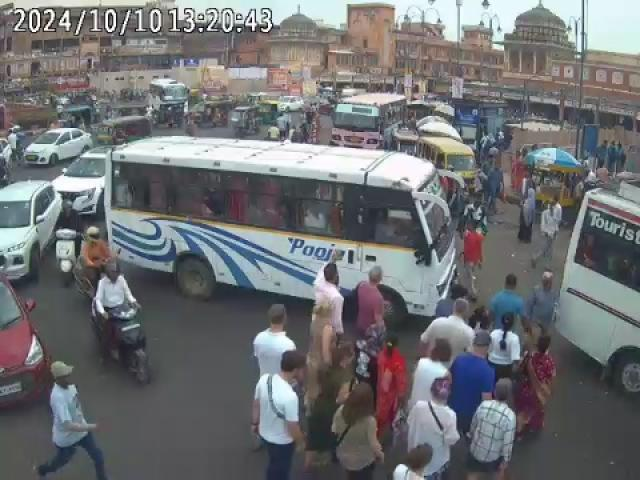auto: (415, 134, 480, 184)
bus: (102, 133, 454, 329), (555, 174, 640, 393), (332, 93, 406, 147), (147, 76, 192, 112)
car: (0, 267, 50, 415), (0, 176, 59, 283), (51, 144, 115, 220), (23, 128, 93, 167)
helmet: (102, 259, 120, 282)
person: (36, 360, 104, 480), (250, 350, 305, 480), (328, 379, 385, 480), (410, 376, 460, 478), (468, 377, 516, 480), (519, 330, 556, 444), (452, 332, 496, 426), (258, 296, 292, 390), (375, 330, 407, 422), (422, 297, 474, 353), (354, 265, 388, 344), (458, 215, 486, 301), (526, 267, 559, 339), (308, 258, 348, 317), (486, 270, 526, 328), (516, 186, 538, 244)
scooty-rider: (86, 262, 150, 384)
